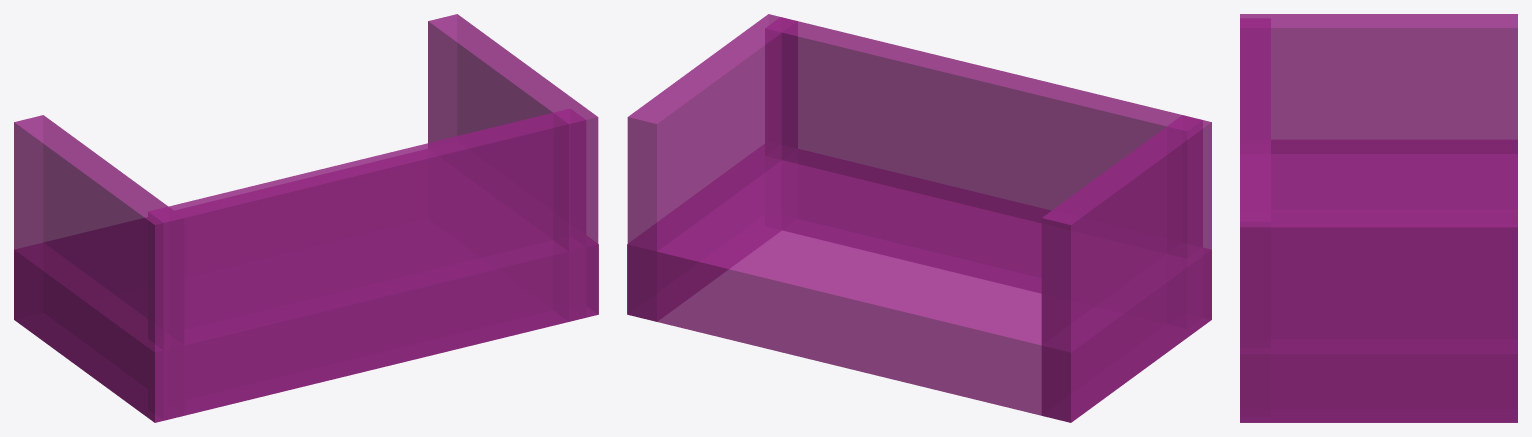
Rendered from SM_Bld_Balcony_01_Collision.fbx.
3 views of the same model, side by side, from view 1: azimuth 30°, elevation 25°; view 2: azimuth 150°, elevation 25°; view 3: azimuth 270°, elevation 25° (orthographic).
Parts seen in each view (by area): view 1: SM_Bld_Balcony_01_Collision; view 2: SM_Bld_Balcony_01_Collision; view 3: SM_Bld_Balcony_01_Collision.
Boxes of the visible parts, <box> form: SM_Bld_Balcony_01_Collision: <box>14,14,598,422</box>; SM_Bld_Balcony_01_Collision: <box>627,14,1211,422</box>; SM_Bld_Balcony_01_Collision: <box>1240,14,1517,422</box>.
Bounding box in the file's own units: 235 × 99.91 × 129.
